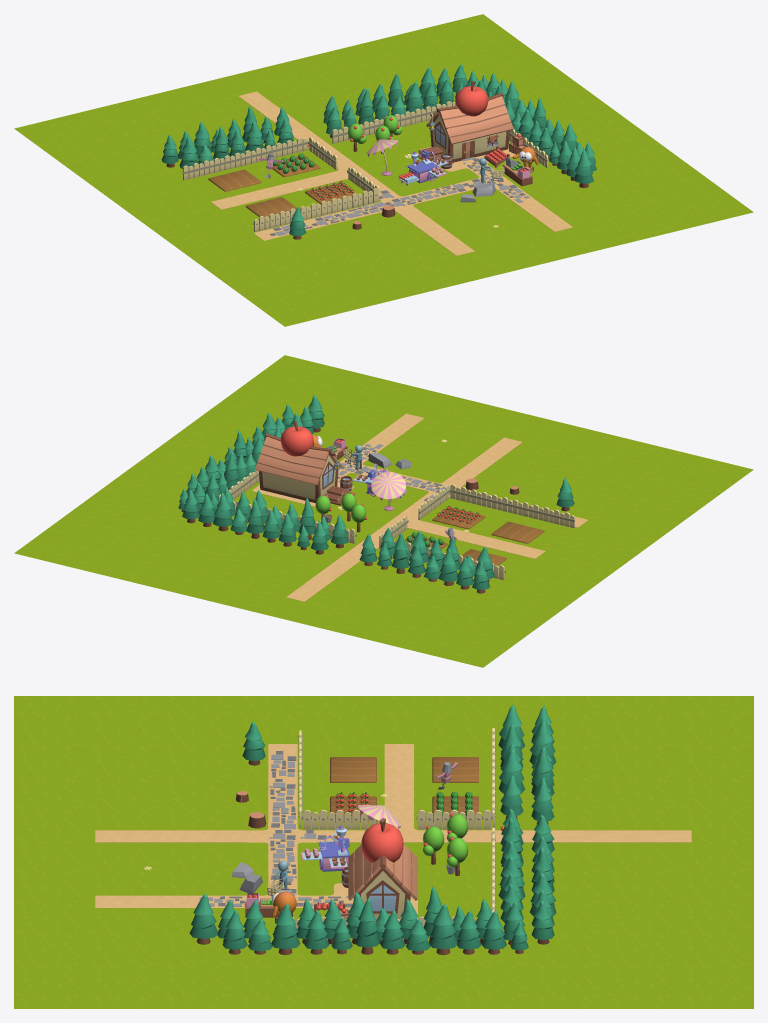
The picture shows the model from 3 angles, top to bottom: view 1: azimuth 30°, elevation 25°; view 2: azimuth 150°, elevation 25°; view 3: azimuth 270°, elevation 25°; orthographic projection. The views are drawn at different scales.
Visible parts, largest first — view 1: Ground_green_149, Ground_148, House_151, Ground_stones_150, Fence.001_69, Fence.002_70, Fence.003_71, House_Big_apple_152, Garden_bed_142, Garden_bed.003_145; view 2: Ground_green_149, Ground_148, House_151, Fence.002_70, Umbrella_213, House_Big_apple_152, Ground_stones_150, Garden_bed.003_145, Garden_bed.002_144; view 3: Ground_green_149, Ground_148, House_151, Ground_stones_150, House_Big_apple_152, Garden_bed.003_145, Fence.006_74, Fence.005_73, Garden_bed_142, Trees.054_133, Trees.047_126, Trees.055_134 (+19 smaller).
Boxes of the visible parts, x1,y1,x2,y2 form: Ground_green_149: [14, 14, 753, 326]; Ground_148: [211, 91, 572, 255]; House_151: [426, 93, 513, 162]; Ground_stones_150: [269, 158, 529, 235]; Fence.001_69: [182, 137, 308, 180]; Fence.002_70: [253, 188, 378, 231]; Fence.003_71: [332, 101, 455, 143]; House_Big_apple_152: [455, 81, 488, 116]; Garden_bed_142: [208, 169, 261, 191]; Garden_bed.003_145: [245, 197, 296, 217]; Ground_green_149: [14, 355, 753, 667]; Ground_148: [252, 413, 587, 601]; House_151: [255, 433, 342, 503]; Fence.002_70: [449, 484, 574, 528]; Umbrella_213: [371, 472, 406, 510]; House_Big_apple_152: [280, 421, 313, 456]; Ground_stones_150: [337, 444, 450, 500]; Garden_bed.003_145: [491, 521, 544, 543]; Garden_bed.002_144: [432, 507, 485, 529]; Ground_green_149: [14, 696, 753, 1008]; Ground_148: [95, 744, 691, 919]; House_151: [348, 822, 417, 920]; Ground_stones_150: [199, 751, 352, 907]; House_Big_apple_152: [361, 818, 403, 862]; Garden_bed.003_145: [330, 757, 376, 782]; Fence.006_74: [302, 809, 379, 829]; Fence.005_73: [416, 809, 492, 829]; Garden_bed_142: [432, 757, 478, 782]; Trees.054_133: [271, 903, 300, 955]; Trees.047_126: [429, 903, 457, 955]; Trees.055_134: [189, 893, 217, 944].
Size of the model in its own units: 27.79 by 3.96 by 27.79.
Materials: 16 (16 with a texture image).
